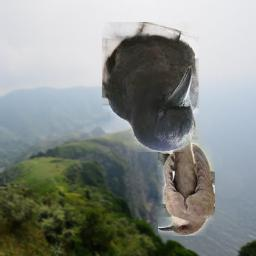Crow: (102, 22, 199, 152)
Cuckoo: (158, 106, 215, 236)
